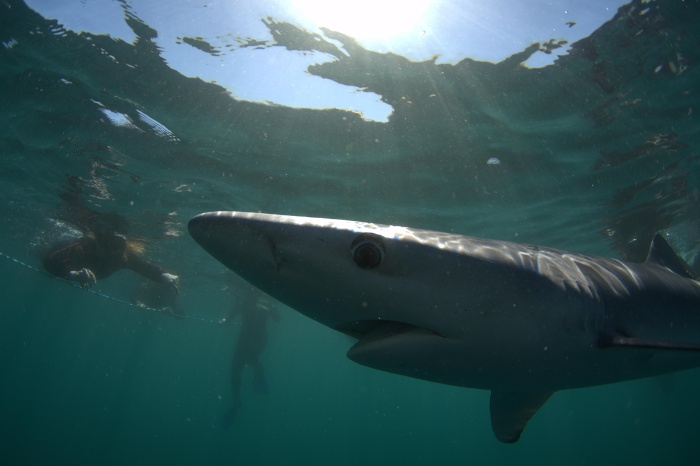Azul: (172, 179, 700, 449)
